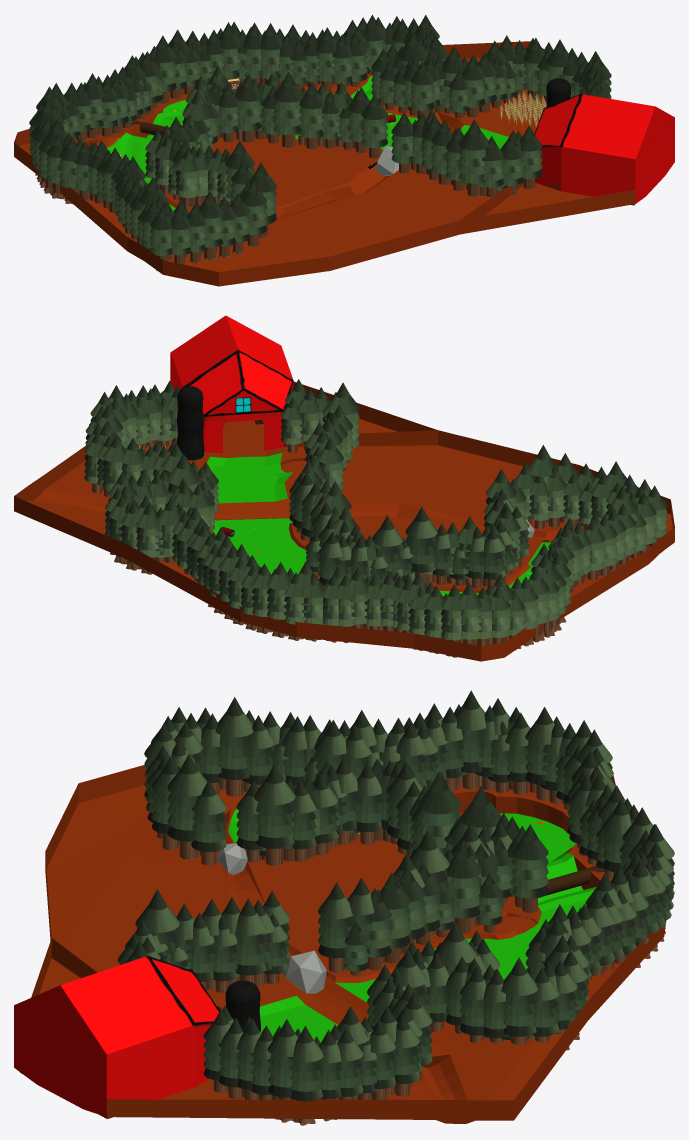
Rendered from proyectardolvl1parte10 corregido.fbx.
3 renders of one model, top to bottom at view 1: azimuth 30°, elevation 25°; view 2: azimuth 150°, elevation 25°; view 3: azimuth 270°, elevation 25°, orthographic. The views are drawn at different scales.
Parts seen in each view (by area): view 1: mapa, pino.075, pino.062, pino.078, pino.070, pino.074, pino.012, pino.015, pino.059, pino.067, pino.159, pino.023 (+70 smaller); view 2: mapa, mapa.007, pino.030, pino.032, pino.223, pino.236, pino.235, pino.209, pino.026, pino.058, pino.062, pino.238 (+54 smaller); view 3: mapa, pino.095, pino.016, pino.098, pino.036, pino.205, pino.041, pino.070, pino.017, pino.185, pino.030, pino.051 (+74 smaller).
Boxes of the visible parts, x1,y1,x2,y2 form: mapa: (14,41,674,286); pino.075: (273,72,303,147); pino.062: (458,119,488,196); pino.078: (235,74,262,142); pino.070: (361,94,387,158); pino.074: (299,82,324,149); pino.012: (199,191,223,260); pino.015: (241,179,266,246); pino.059: (519,125,542,188); pino.067: (391,112,413,173); pino.159: (411,61,434,119); pino.023: (175,148,197,206); mapa: (14,315,674,661); mapa.007: (176,386,204,460); pino.030: (405,506,437,585); pino.032: (372,515,403,577); pino.223: (266,562,290,637); pino.236: (461,582,481,645); pino.235: (441,584,463,657); pino.209: (136,502,159,574); pino.026: (483,527,505,587); pino.058: (281,397,303,452); pino.062: (326,382,359,462); pino.238: (491,586,510,644); mapa: (14,765,666,1123); pino.095: (254,764,295,865); pino.016: (167,754,207,859); pino.098: (215,697,252,796); pino.036: (512,824,548,919); pino.205: (501,957,537,1044); pino.041: (446,841,481,933); pino.070: (318,882,353,972); pino.017: (191,780,226,865); pino.185: (288,1025,323,1125); pino.030: (417,771,460,855); pino.051: (235,898,266,985).
Size of the model in its own units: 11005 by 1945 by 8910.
